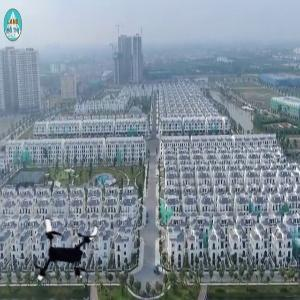drone: (24, 207, 106, 289)
